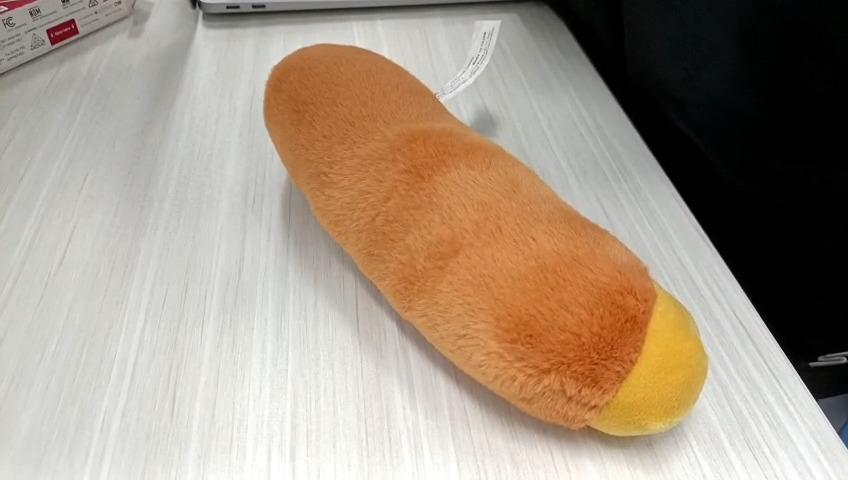hotdog: (265, 43, 709, 438)
